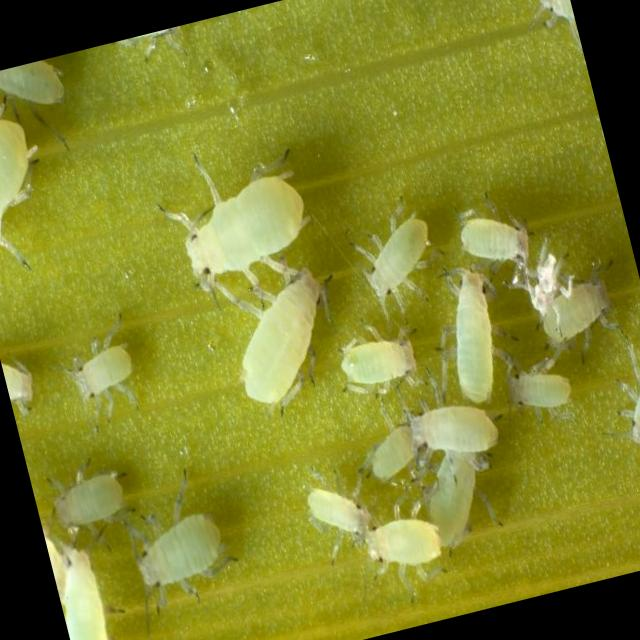aphid: (138, 126, 330, 290), (201, 254, 355, 423), (114, 499, 246, 628), (332, 172, 457, 304), (401, 426, 518, 564), (47, 296, 162, 435), (422, 242, 512, 417), (35, 450, 152, 558), (0, 112, 71, 288), (320, 309, 438, 408), (346, 494, 454, 598), (522, 264, 628, 363), (398, 378, 503, 477), (444, 182, 540, 288), (342, 390, 436, 495), (496, 342, 583, 434), (588, 345, 640, 495), (296, 464, 378, 542), (510, 0, 587, 81), (0, 323, 56, 429)
